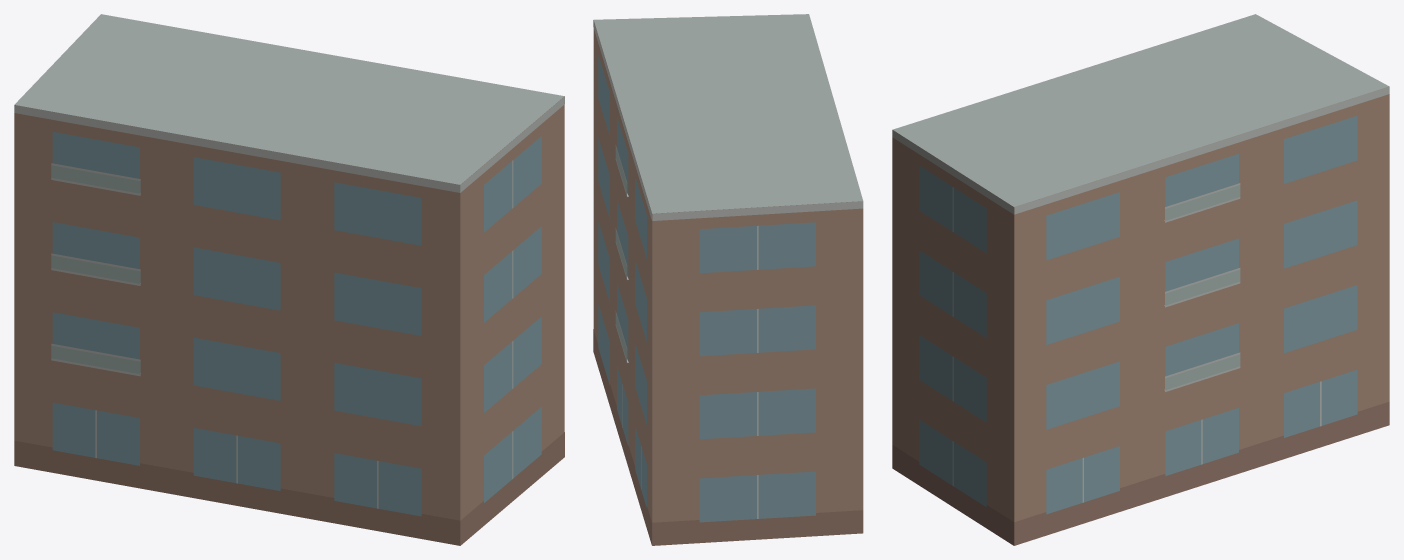
File: survey-upis-32499217.glb
3 views of the same model, side by side, from view 1: azimuth 30°, elevation 25°; view 2: azimuth 150°, elevation 25°; view 3: azimuth 270°, elevation 25° (orthographic). The views are drawn at different scales.
Visible parts, largest first — view 1: survey-upis-32499217.tmp; view 2: survey-upis-32499217.tmp; view 3: survey-upis-32499217.tmp.
Boxes of the visible parts, x1,y1,x2,y2 form: survey-upis-32499217.tmp: [14, 14, 564, 545]; survey-upis-32499217.tmp: [593, 14, 863, 545]; survey-upis-32499217.tmp: [892, 14, 1389, 545].
Size of the model in its own units: 13.34 by 10.9 by 14.51.
